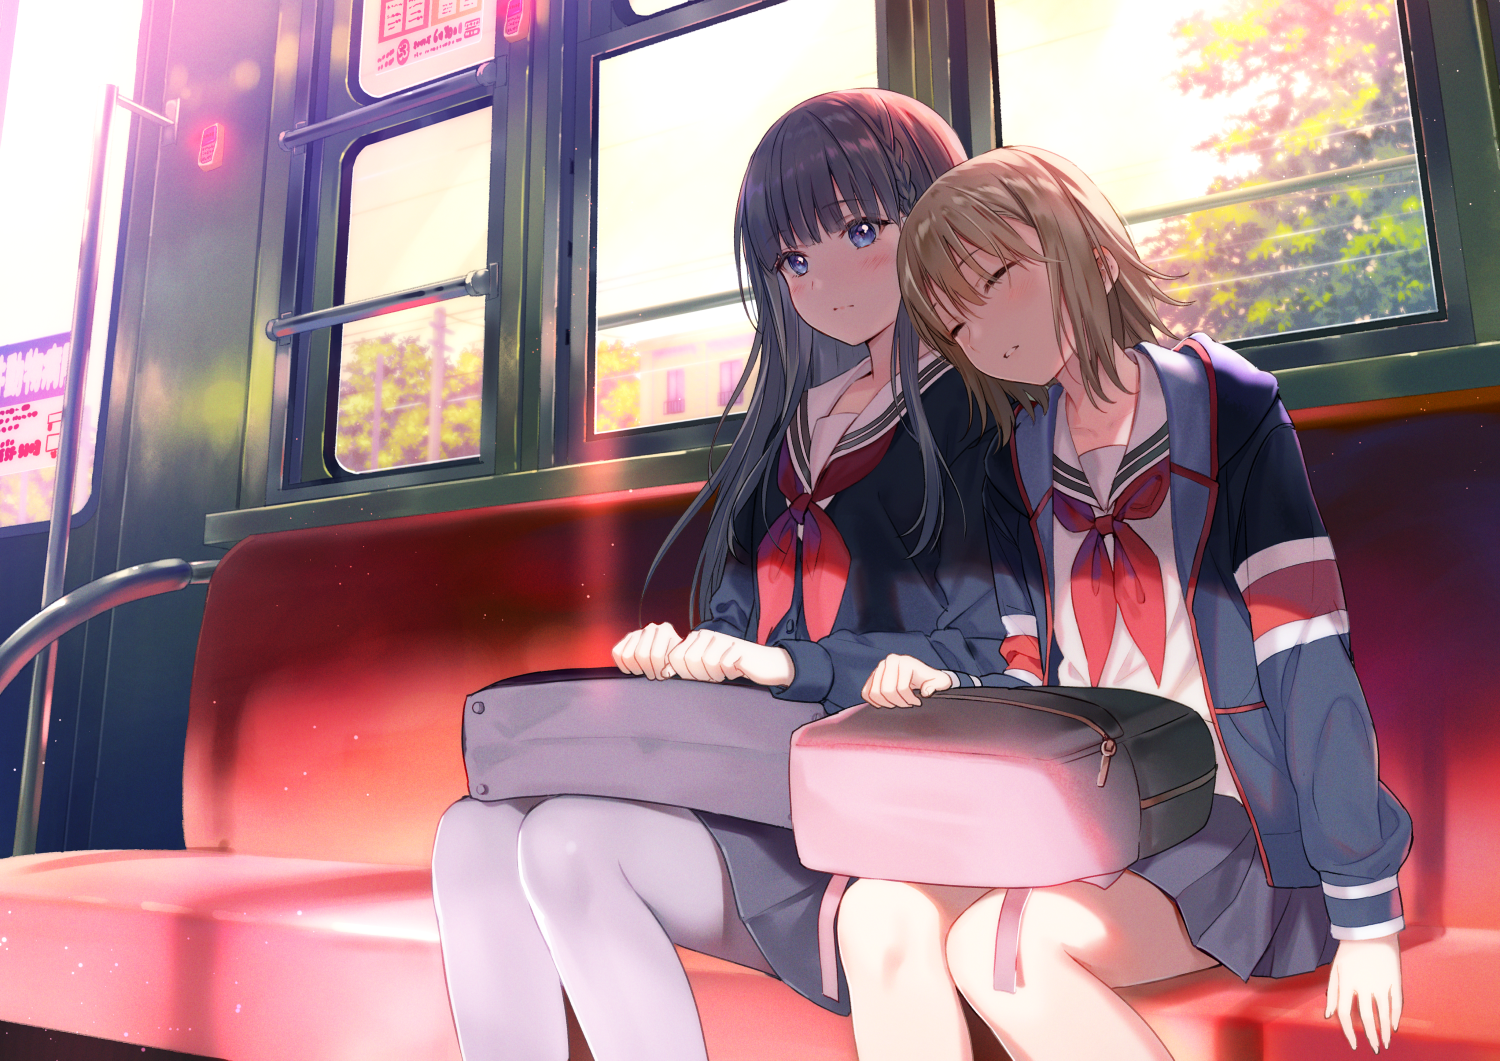纸片人正脸: (891, 135, 1155, 389), (731, 86, 962, 357)
